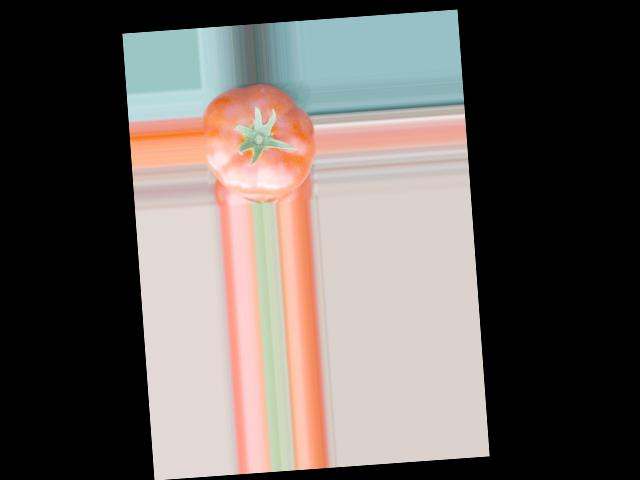tomato: (200, 81, 320, 200)
